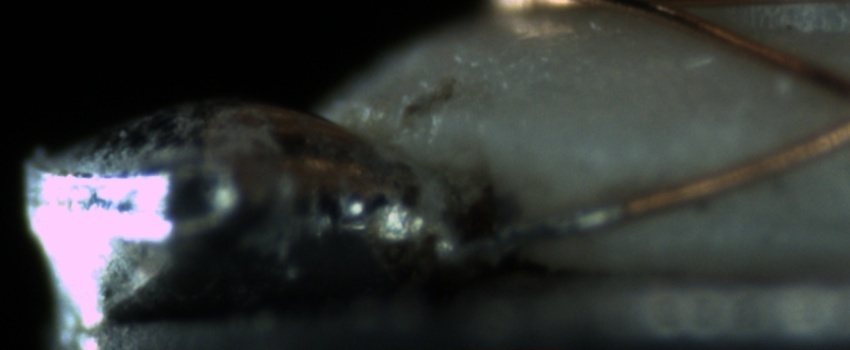TS: (449, 195, 623, 257)
